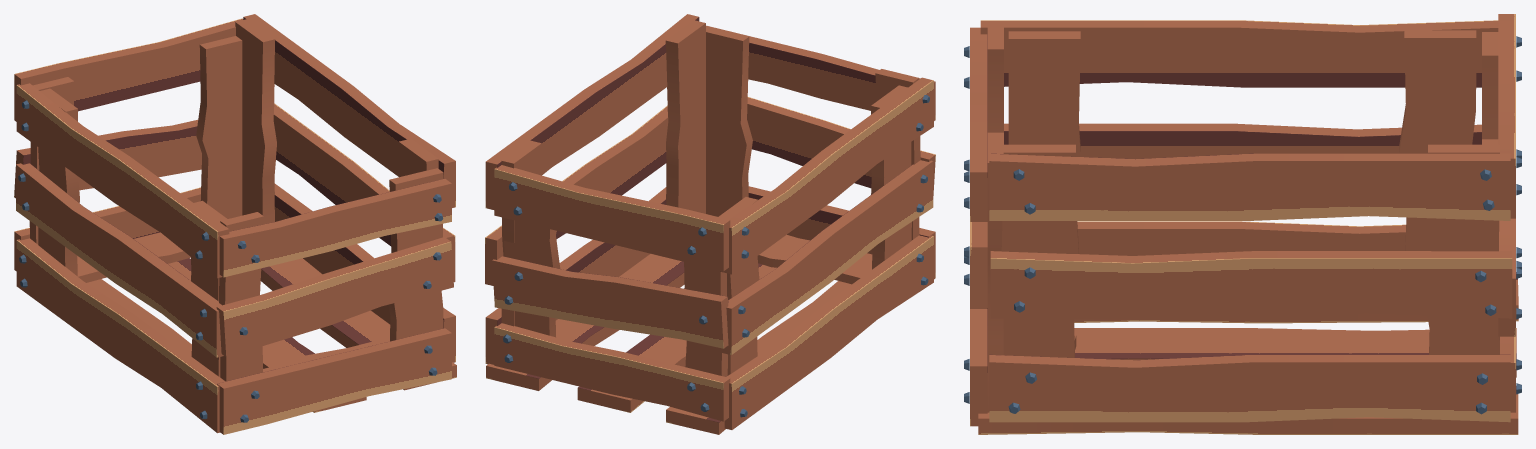
The model's file is Cajon_Vacio.fbx.
The picture shows the model from 3 angles, left to right: view 1: azimuth 30°, elevation 25°; view 2: azimuth 150°, elevation 25°; view 3: azimuth 270°, elevation 25°; orthographic projection. The views are drawn at different scales.
Visible parts, largest first — view 1: Cajon_Vacio; view 2: Cajon_Vacio; view 3: Cajon_Vacio.
Part boxes in pixels (box(x1,y1,x2,y2)): Cajon_Vacio: box(14, 14, 456, 434); Cajon_Vacio: box(485, 14, 935, 434); Cajon_Vacio: box(964, 14, 1521, 434).
Bounding box in the file's own units: 80.53 × 65.51 × 119.
